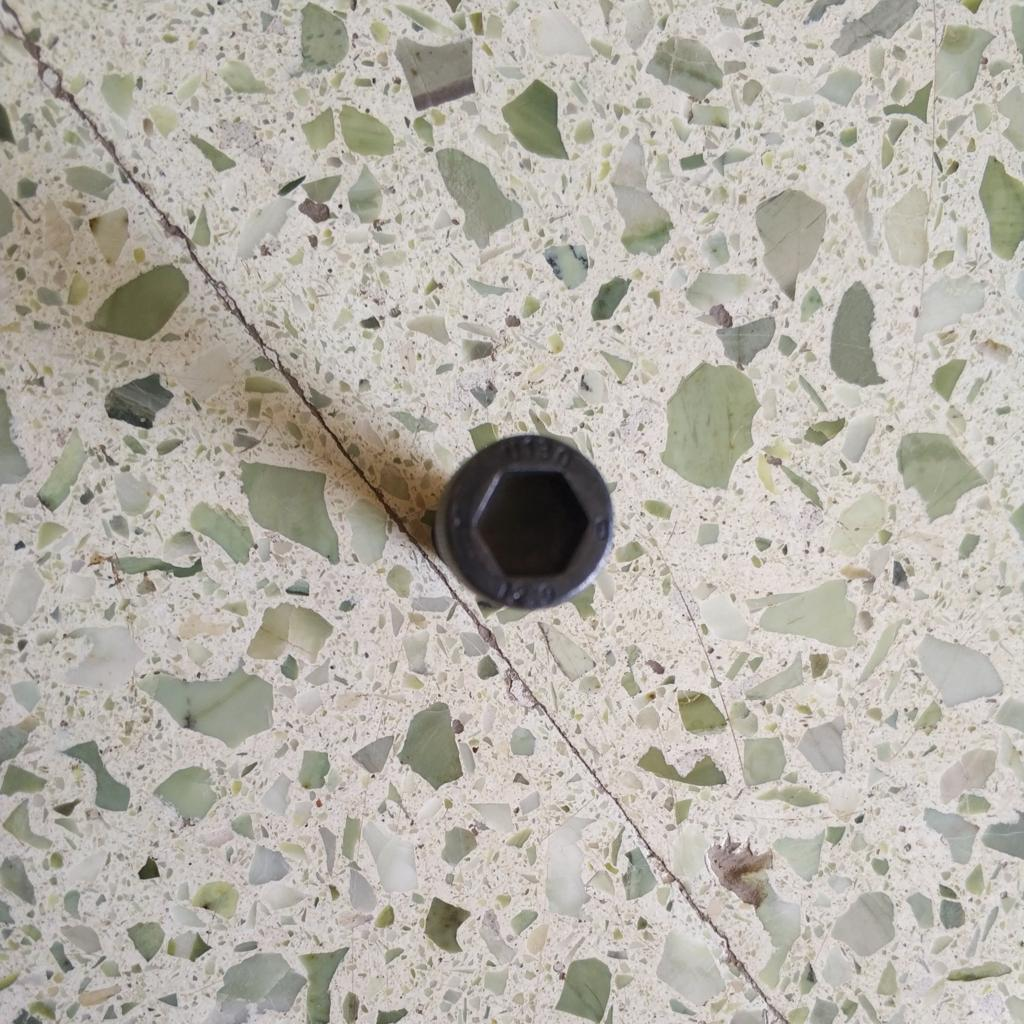screwtype1black: (426, 428, 618, 618)
